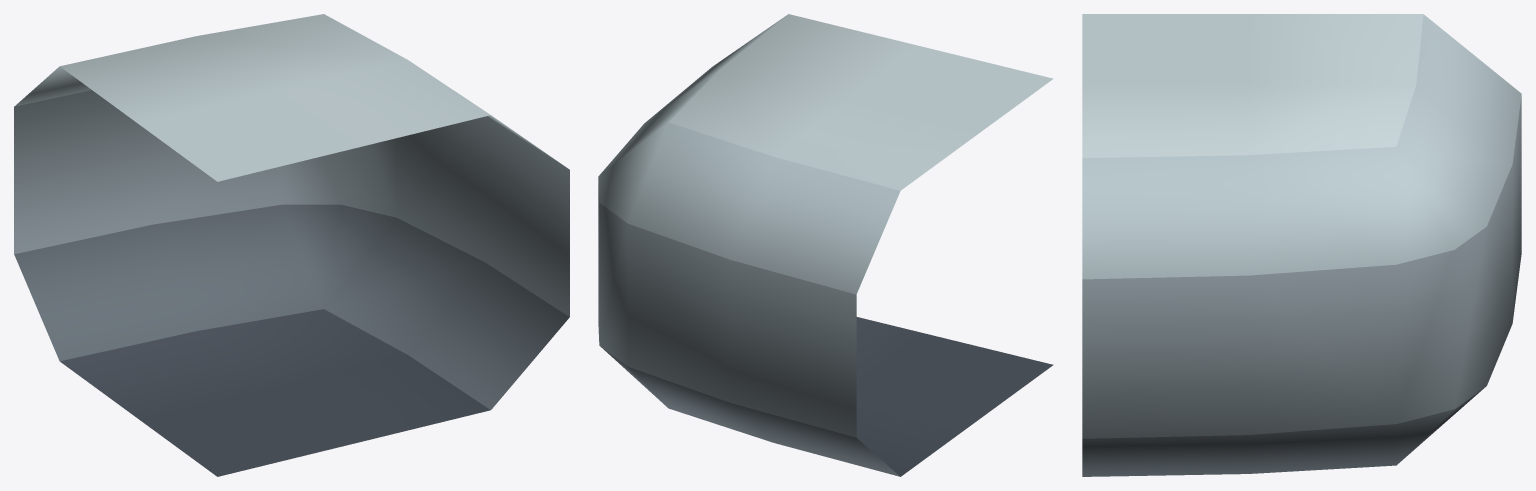
The model's file is snow_top_1x1_corner_back_right.fbx.
The picture shows the model from 3 angles, left to right: view 1: azimuth 30°, elevation 25°; view 2: azimuth 150°, elevation 25°; view 3: azimuth 270°, elevation 25°; orthographic projection. The views are drawn at different scales.
Visible parts, largest first — view 1: snow_top_1x1_corner_back_right; view 2: snow_top_1x1_corner_back_right; view 3: snow_top_1x1_corner_back_right.
Boxes of the visible parts, <box> form: snow_top_1x1_corner_back_right: <box>14,14,569,476</box>; snow_top_1x1_corner_back_right: <box>598,14,1053,476</box>; snow_top_1x1_corner_back_right: <box>1082,14,1521,476</box>.
Bounding box in the file's own units: 68.72 × 55 × 68.72.
1 material, 1 textured.
